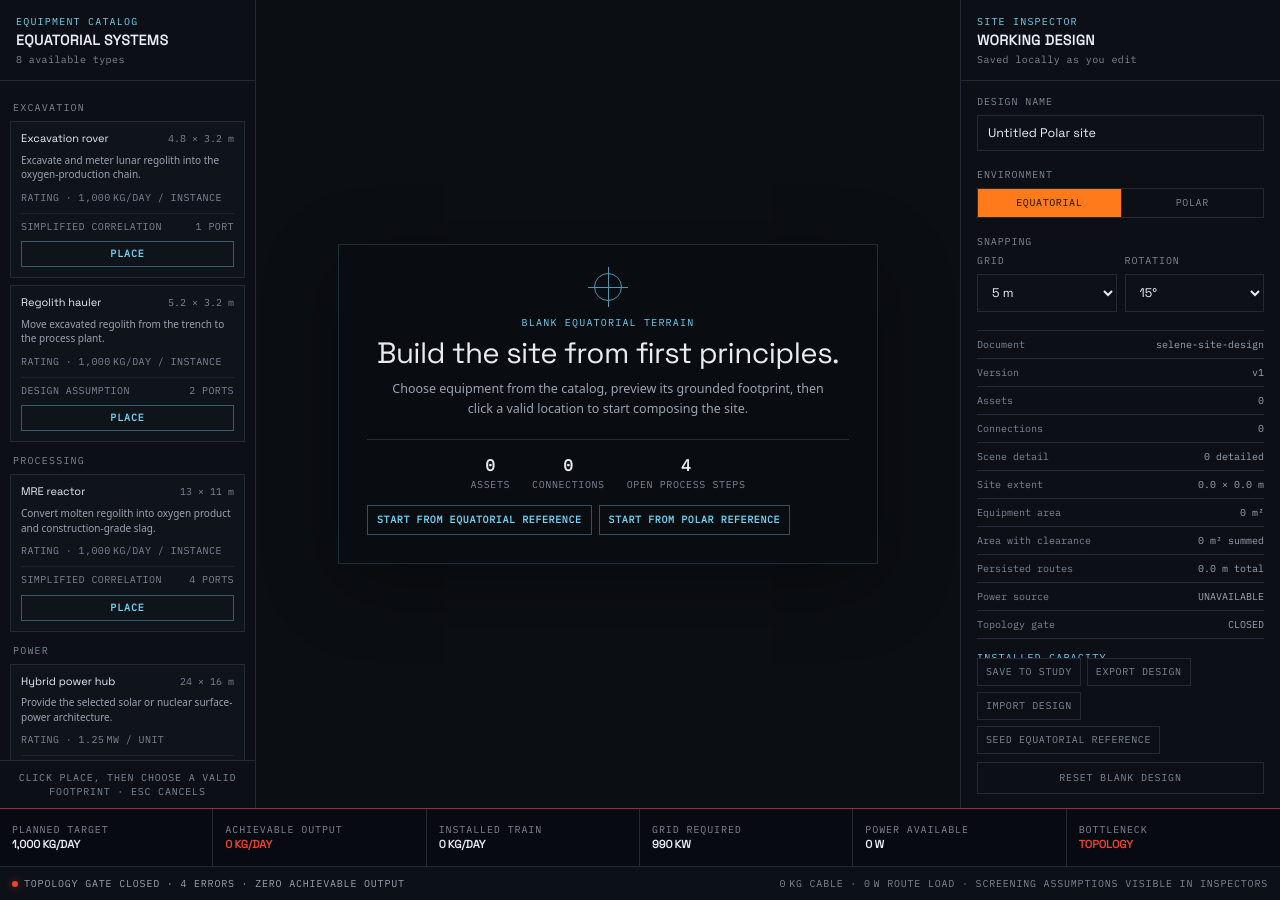
custom site workspace › starts from an editable authored reference layout
This screenshot has width=1280, height=900.
Click the button "START FROM EQUATORIAL REFERENCE".
click(479, 520)  # box left=367, top=505, right=592, bottom=535
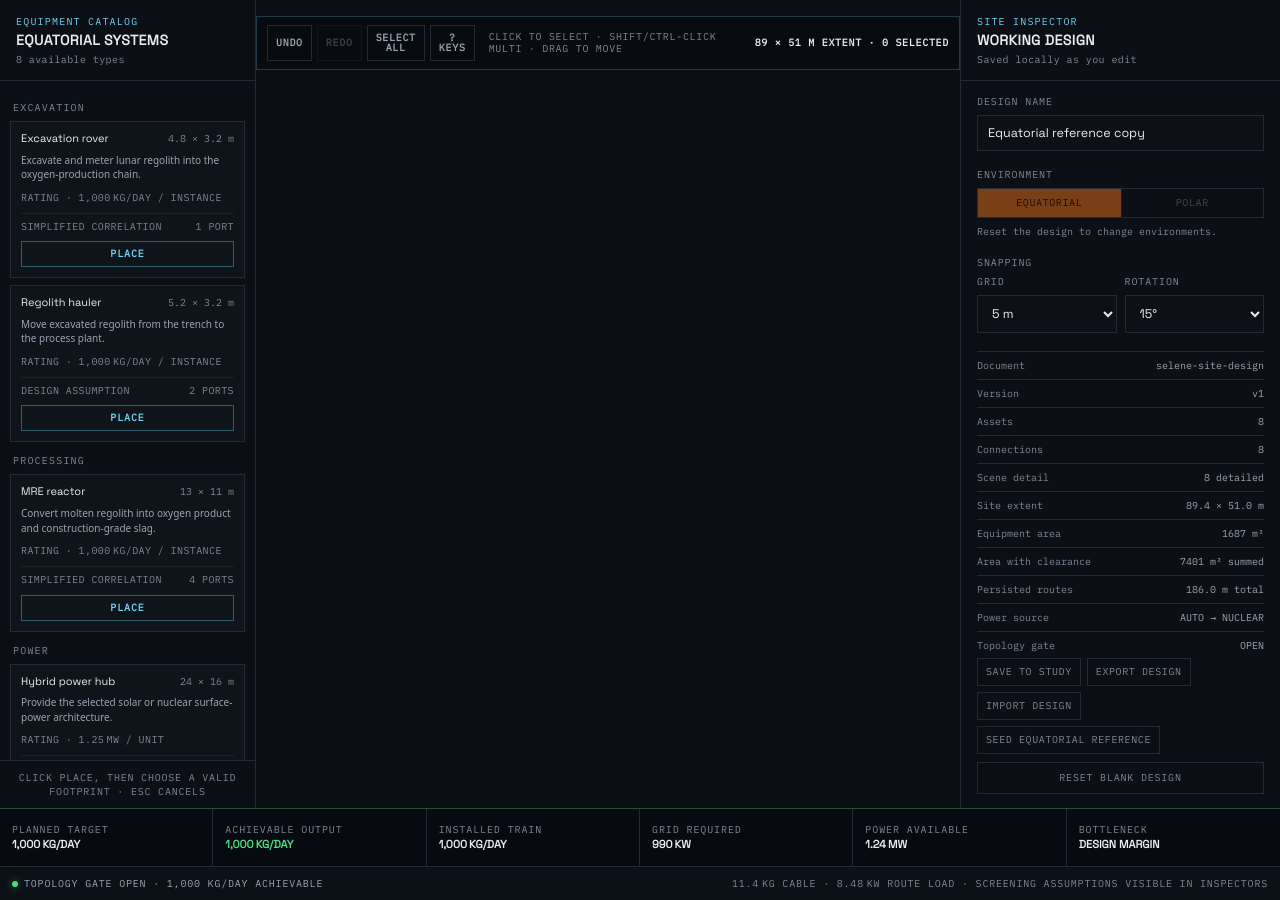
Expected: the element named "Site planner tools" shows "EXTENT", left=802, top=36, right=875, bottom=49
